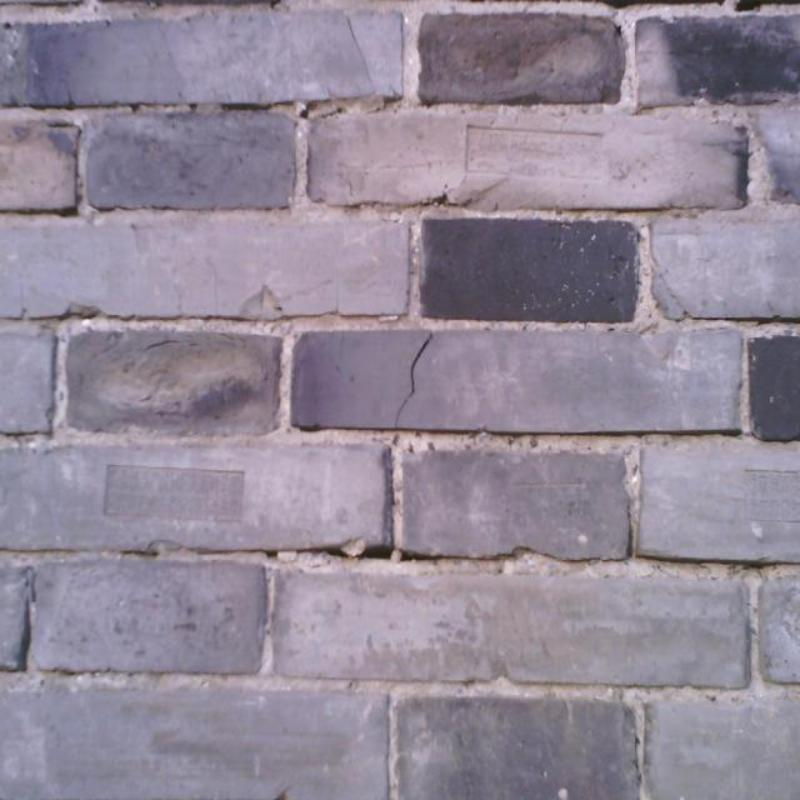pothole: (395, 331, 433, 426), (342, 12, 371, 80), (660, 274, 686, 312), (400, 550, 439, 561), (360, 550, 390, 560), (316, 548, 345, 556), (266, 551, 276, 556)
